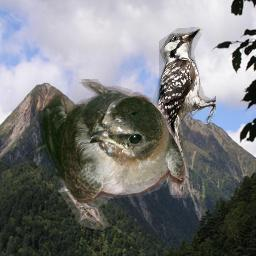Swallow: (19, 79, 189, 232)
Woodpecker: (150, 25, 216, 191)
